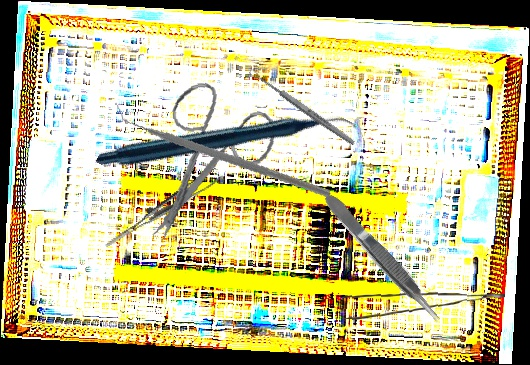Chopper: (114, 62, 332, 236)
Handpiece: (95, 26, 358, 261)
Iris Scissors: (132, 73, 288, 246)
Surgical Spoon: (247, 67, 357, 147)
Tissue Forceps: (321, 188, 446, 328), (95, 167, 227, 248), (341, 288, 506, 325)
